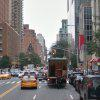Crosswalk: (1, 76, 23, 89)
